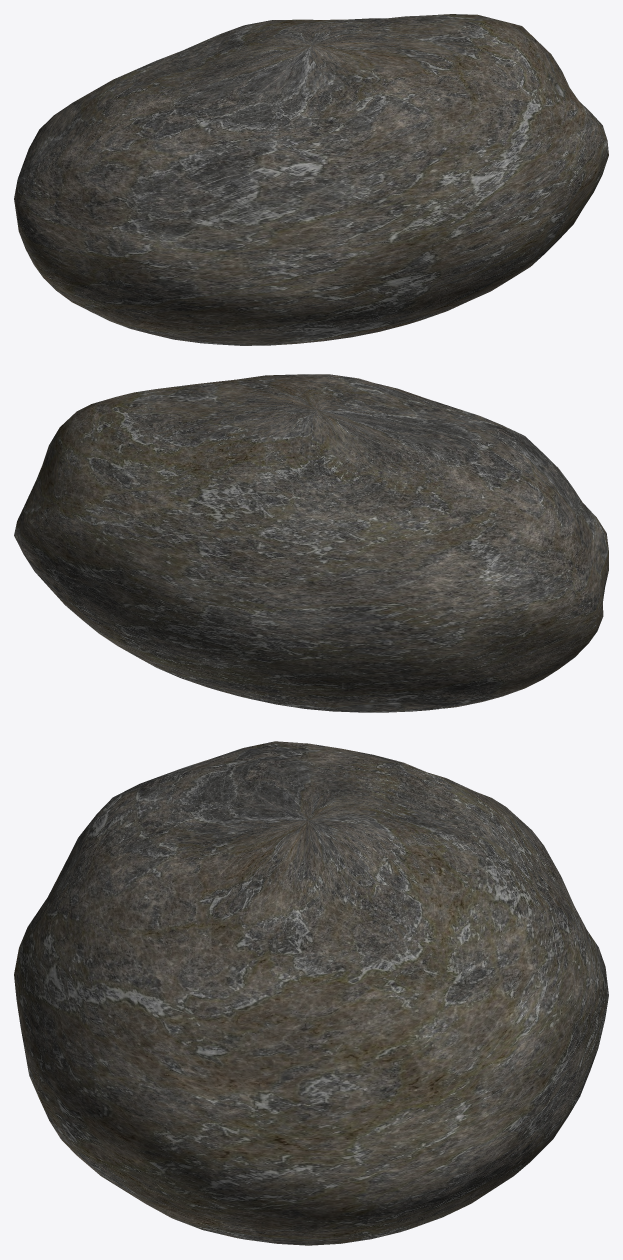
The model's file is river_stone_LOD0.fbx.
3 views of the same model, one above another, from view 1: azimuth 30°, elevation 25°; view 2: azimuth 150°, elevation 25°; view 3: azimuth 270°, elevation 25° (orthographic). The views are drawn at different scales.
Parts seen in each view (by area): view 1: river_stone_LOD0; view 2: river_stone_LOD0; view 3: river_stone_LOD0.
Boxes of the visible parts, bbox=[...] form: river_stone_LOD0: bbox=[14, 14, 608, 345]; river_stone_LOD0: bbox=[14, 374, 608, 712]; river_stone_LOD0: bbox=[14, 741, 608, 1245].
Bounding box in the file's own units: 270 × 115 × 190.
